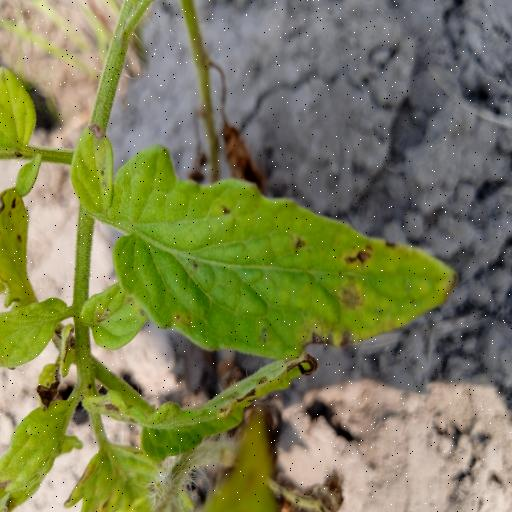Tomato_Brown_Spots: (73, 125, 453, 368)
